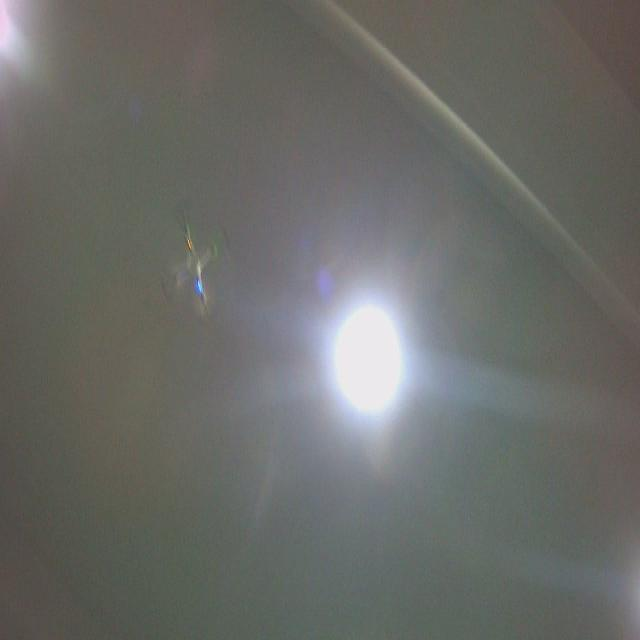drone: (158, 196, 233, 326)
